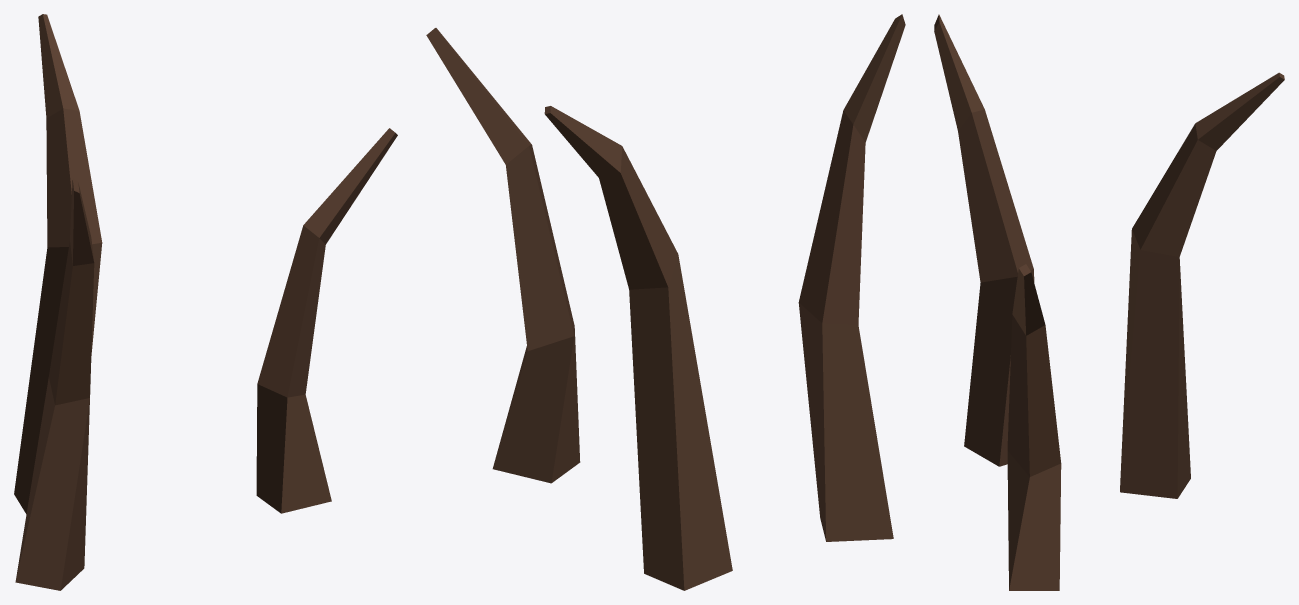
The model's file is GrassAutumn1_Alt4.fbx.
The picture shows the model from 3 angles, left to right: view 1: azimuth 30°, elevation 25°; view 2: azimuth 150°, elevation 25°; view 3: azimuth 270°, elevation 25°; orthographic projection. The views are drawn at different scales.
Parts seen in each view (by area): view 1: GrassAutumn1_Alt4; view 2: GrassAutumn1_Alt4; view 3: GrassAutumn1_Alt4.
Part boxes in pixels (x1=…): GrassAutumn1_Alt4: x1=14, y1=14, x2=397, y2=590; GrassAutumn1_Alt4: x1=426, y1=14, x2=905, y2=590; GrassAutumn1_Alt4: x1=934, y1=14, x2=1284, y2=590.
Bounding box in the file's own units: 0.3561 × 0.3746 × 0.2695.
